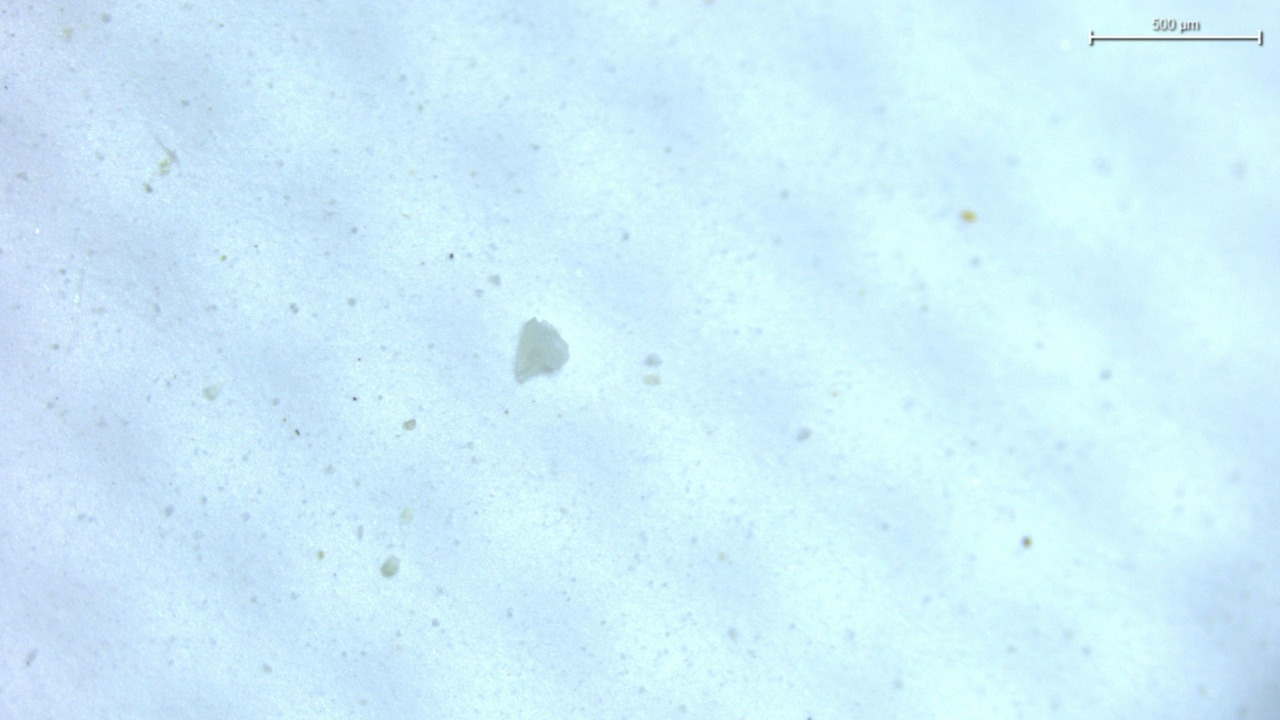microplastic_fragment: (514, 318, 568, 383)
